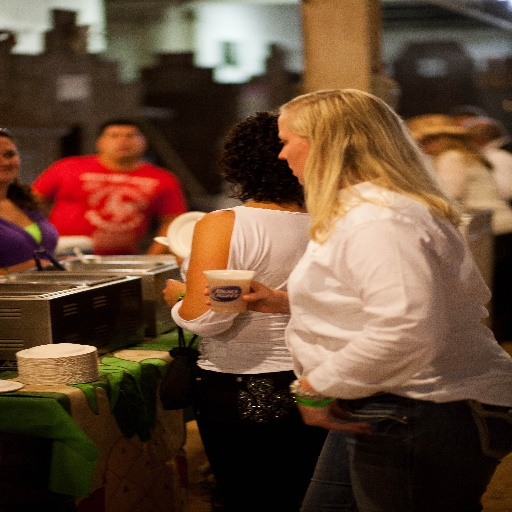hand: (294, 384, 373, 435), (230, 276, 287, 314), (157, 276, 186, 310)
